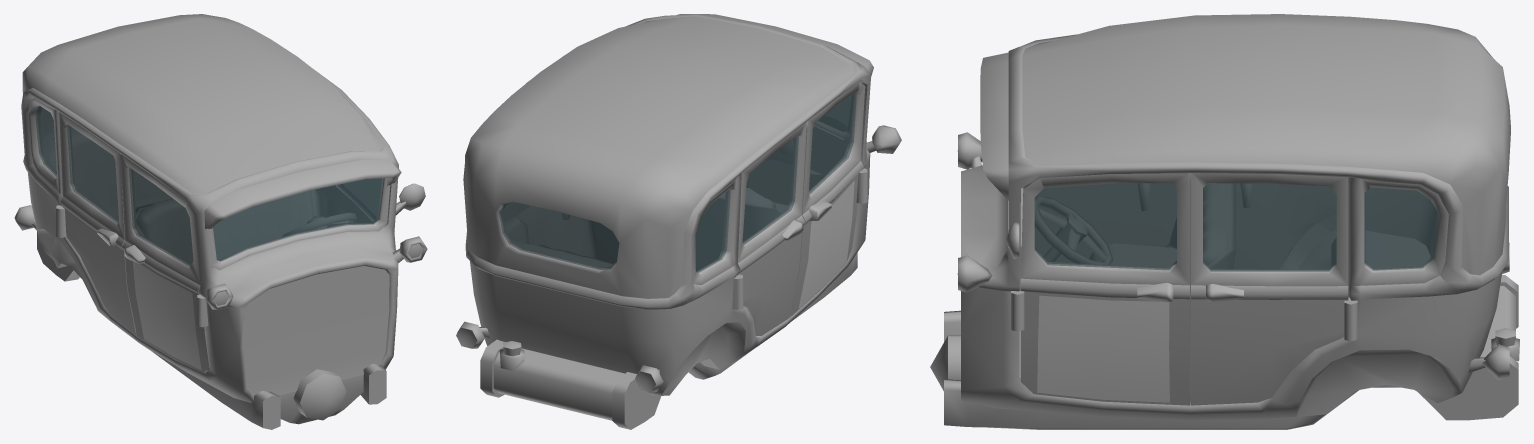
File: Body_Fordor.fbx
3 views of the same model, side by side, from view 1: azimuth 30°, elevation 25°; view 2: azimuth 150°, elevation 25°; view 3: azimuth 270°, elevation 25° (orthographic). The views are drawn at different scales.
Visible parts, largest first — view 1: Fordor_Body_Mesh, Fordor_Body_Window_Mesh, Fordor_Door_Right_Back_Mesh, Fordor_Door_Right_Mesh, Fordor_Door_Right_Decal_Mesh, Fordor_Body_Cap_Mesh, Fordor_Door_Right_Window_Mesh, Fordor_Door_Right_Back_Window_Mesh, Fordor_Door_Left_Window_Mesh, Fordor_Door_Left_Mesh, Body_SteerWheel_Geom_Mesh; view 2: Fordor_Body_Mesh, Fordor_Body_Window_Mesh, Fordor_Door_Right_Back_Mesh, Fordor_Door_Right_Mesh, Fordor_Door_Right_Back_Window_Mesh, Fordor_Door_Right_Decal_Mesh, Fordor_Door_Right_Window_Mesh, Fordor_Door_Left_Back_Mesh, Fordor_Body_Cap_Mesh; view 3: Fordor_Body_Mesh, Fordor_Door_Left_Back_Mesh, Fordor_Door_Left_Mesh, Fordor_Door_Left_Decal_Mesh, Fordor_Door_Left_Window_Mesh, Fordor_Door_Left_Back_Window_Mesh, Fordor_Door_Right_Mesh, Fordor_Door_Right_Back_Mesh, Fordor_Body_Window_Mesh, Fordor_Body_Cap_Mesh, Body_SteerWheel_Geom_Mesh.
Boxes of the visible parts, <box> form: Fordor_Body_Mesh: <box>14,14,427,429</box>; Fordor_Body_Window_Mesh: <box>35,106,383,261</box>; Fordor_Door_Right_Back_Mesh: <box>59,112,136,335</box>; Fordor_Door_Right_Mesh: <box>120,154,209,372</box>; Fordor_Door_Right_Decal_Mesh: <box>132,261,201,370</box>; Fordor_Body_Cap_Mesh: <box>204,160,401,229</box>; Fordor_Door_Right_Window_Mesh: <box>129,167,193,266</box>; Fordor_Door_Right_Back_Window_Mesh: <box>67,125,118,223</box>; Fordor_Door_Left_Window_Mesh: <box>339,179,380,218</box>; Fordor_Door_Left_Mesh: <box>327,185,373,226</box>; Body_SteerWheel_Geom_Mesh: <box>282,213,356,236</box>; Fordor_Body_Mesh: <box>456,14,901,429</box>; Fordor_Body_Window_Mesh: <box>498,96,851,272</box>; Fordor_Door_Right_Back_Mesh: <box>736,122,806,335</box>; Fordor_Door_Right_Mesh: <box>789,82,865,317</box>; Fordor_Door_Right_Back_Window_Mesh: <box>742,135,798,244</box>; Fordor_Door_Right_Decal_Mesh: <box>798,181,854,308</box>; Fordor_Door_Right_Window_Mesh: <box>808,93,856,194</box>; Fordor_Door_Left_Back_Mesh: <box>517,203,591,256</box>; Fordor_Body_Cap_Mesh: <box>676,14,873,76</box>; Fordor_Body_Mesh: <box>930,14,1519,429</box>; Fordor_Door_Left_Back_Mesh: <box>1190,173,1348,405</box>; Fordor_Door_Left_Mesh: <box>1020,173,1190,405</box>; Fordor_Door_Left_Decal_Mesh: <box>1037,295,1169,402</box>; Fordor_Door_Left_Window_Mesh: <box>1034,183,1176,270</box>; Fordor_Door_Left_Back_Window_Mesh: <box>1203,183,1336,271</box>; Fordor_Door_Right_Mesh: <box>1035,183,1176,262</box>; Fordor_Door_Right_Back_Mesh: <box>1234,183,1336,269</box>; Fordor_Body_Window_Mesh: <box>1364,187,1439,270</box>; Fordor_Body_Cap_Mesh: <box>980,52,1008,200</box>; Body_SteerWheel_Geom_Mesh: <box>1035,196,1112,264</box>.
Size of the model in its own units: 176 by 181 by 286.
